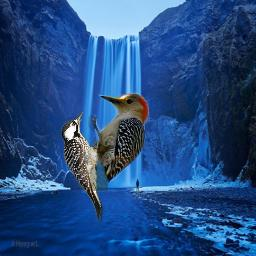Woodpecker: (86, 88, 162, 191), (61, 112, 112, 222)
